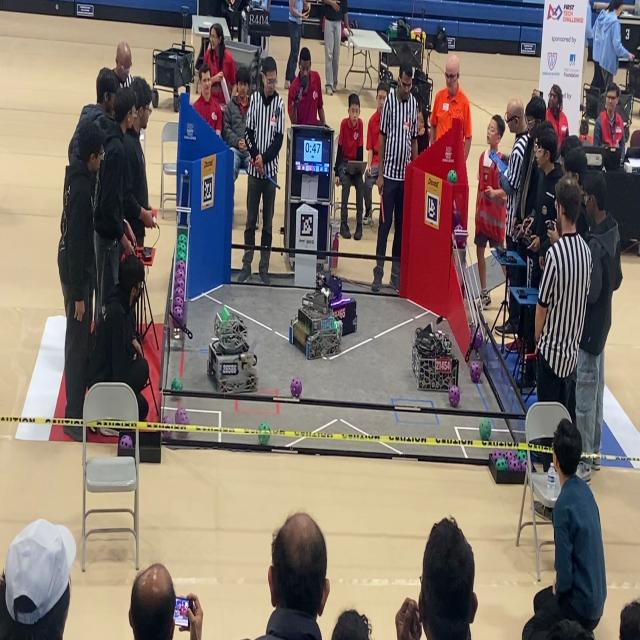artifact_green: (479, 418, 491, 441), (258, 423, 269, 445), (579, 117, 588, 136), (495, 459, 508, 471), (171, 378, 183, 391), (491, 450, 503, 462), (220, 306, 229, 321), (447, 170, 457, 183), (176, 244, 187, 254), (177, 243, 187, 253), (517, 451, 526, 462), (177, 245, 187, 254), (177, 235, 187, 244), (177, 250, 186, 260), (176, 242, 187, 250), (177, 240, 187, 248), (178, 233, 187, 241), (177, 243, 187, 250), (177, 240, 187, 247), (178, 253, 185, 260), (179, 230, 186, 237), (334, 321, 338, 331), (178, 255, 185, 260)
artifact_purple: (174, 408, 189, 424), (449, 386, 460, 407), (470, 362, 481, 383), (455, 225, 465, 248), (291, 378, 302, 398), (119, 435, 132, 449), (173, 306, 183, 324), (473, 332, 483, 350), (452, 210, 461, 228), (508, 459, 520, 471), (174, 269, 185, 282), (174, 287, 184, 301), (491, 450, 502, 462), (496, 459, 507, 471), (174, 297, 184, 310), (505, 450, 516, 461), (173, 296, 184, 307), (175, 260, 185, 272), (174, 271, 184, 283), (175, 279, 185, 290), (517, 450, 526, 462), (176, 268, 185, 279), (176, 260, 185, 271), (175, 277, 184, 287), (455, 224, 464, 234), (519, 460, 527, 471), (495, 450, 505, 458), (177, 261, 185, 270), (162, 416, 172, 423), (162, 416, 171, 423)
